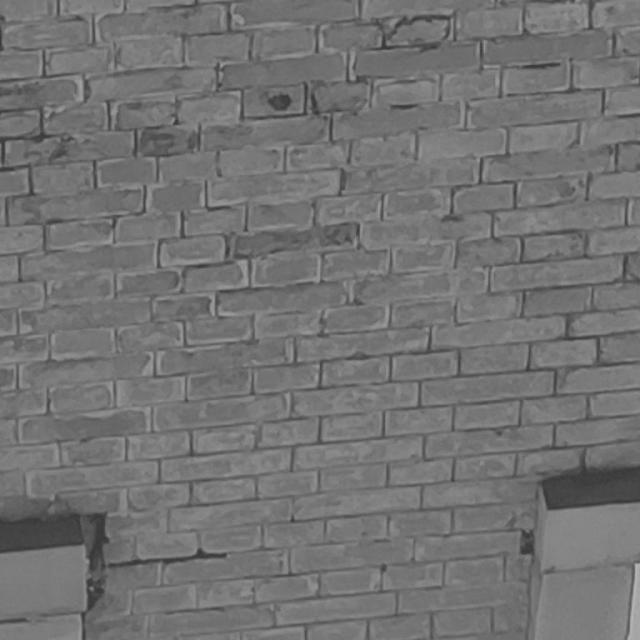crack: (42, 493, 226, 612)
